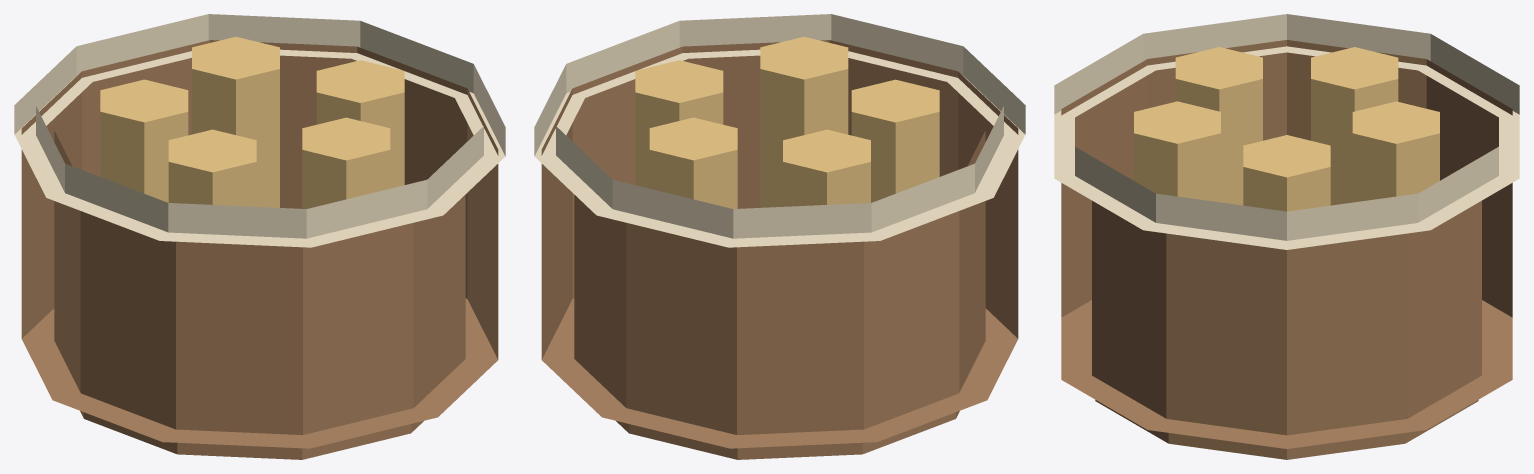
The model's file is frontier-corn-harvest-basket__247.glb.
3 views of the same model, side by side, from view 1: azimuth 30°, elevation 25°; view 2: azimuth 150°, elevation 25°; view 3: azimuth 270°, elevation 25° (orthographic).
Parts seen in each view (by area): view 1: frontier-post-corn-basket; view 2: frontier-post-corn-basket; view 3: frontier-post-corn-basket.
Boxes of the visible parts, left/top/right/bottom form: frontier-post-corn-basket: left=14, top=14, right=505, bottom=459; frontier-post-corn-basket: left=534, top=14, right=1025, bottom=459; frontier-post-corn-basket: left=1054, top=14, right=1519, bottom=459.
Size of the model in its own units: 0.68 by 0.41 by 0.6467.
